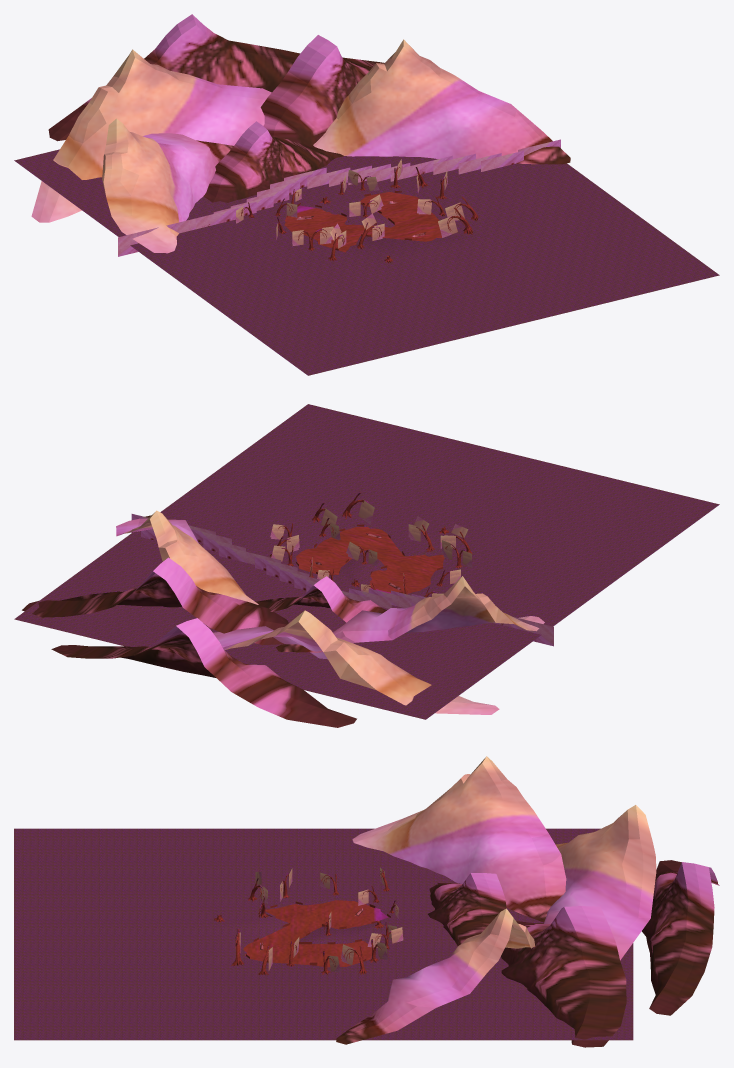
The model's file is 327_bg_poison.fbx.
3 views of the same model, one above another, from view 1: azimuth 30°, elevation 25°; view 2: azimuth 150°, elevation 25°; view 3: azimuth 270°, elevation 25° (orthographic). The views are drawn at different scales.
Parts seen in each view (by area): view 1: ground, _bg_grassC:polySurface1, _bg_grassC:polySurface17, _bg_grassC:polySurface18, _bg_grassC:polySurface19, _bg_grassC:polySurface20, _bg_grassC:polySurface16, _bg_grassC:pPlane1; view 2: ground, _bg_grassC:polySurface20, _bg_grassC:polySurface19, _bg_grassC:polySurface17, _bg_grassC:polySurface18, _bg_grassC:pPlane1, _bg_grassC:polySurface1, _bg_grassC:polySurface16; view 3: ground, _bg_grassC:polySurface18, _bg_grassC:polySurface19, _bg_grassC:polySurface17, _bg_grassC:polySurface20, _bg_grassC:polySurface1, _bg_grassC:pPlane1, _bg_grassC:polySurface16.
Part boxes in pixels (left/top/right/bottom): ground: left=14, top=149, right=719, bottom=375; _bg_grassC:polySurface1: left=313, top=39, right=570, bottom=164; _bg_grassC:polySurface17: left=31, top=49, right=271, bottom=222; _bg_grassC:polySurface18: left=102, top=118, right=233, bottom=253; _bg_grassC:polySurface19: left=260, top=35, right=384, bottom=144; _bg_grassC:polySurface20: left=48, top=14, right=300, bottom=141; _bg_grassC:polySurface16: left=203, top=121, right=343, bottom=202; _bg_grassC:pPlane1: left=284, top=191, right=441, bottom=252; ground: left=14, top=404, right=719, bottom=719; _bg_grassC:polySurface20: left=51, top=618, right=356, bottom=727; _bg_grassC:polySurface19: left=22, top=557, right=288, bottom=644; _bg_grassC:polySurface17: left=213, top=610, right=499, bottom=714; _bg_grassC:polySurface18: left=276, top=576, right=544, bottom=652; _bg_grassC:pPlane1: left=296, top=527, right=444, bottom=593; _bg_grassC:polySurface1: left=116, top=510, right=258, bottom=604; _bg_grassC:polySurface16: left=255, top=576, right=386, bottom=622; ground: left=14, top=828, right=633, bottom=1040; _bg_grassC:polySurface18: left=352, top=756, right=566, bottom=922; _bg_grassC:polySurface19: left=501, top=906, right=626, bottom=1047; _bg_grassC:polySurface17: left=544, top=805, right=656, bottom=960; _bg_grassC:polySurface20: left=642, top=860, right=719, bottom=1015; _bg_grassC:polySurface1: left=336, top=908, right=535, bottom=1044; _bg_grassC:pPlane1: left=243, top=900, right=388, bottom=967; _bg_grassC:polySurface16: left=428, top=873, right=506, bottom=945.
Size of the model in its own units: 5571 by 1254 by 7272.
